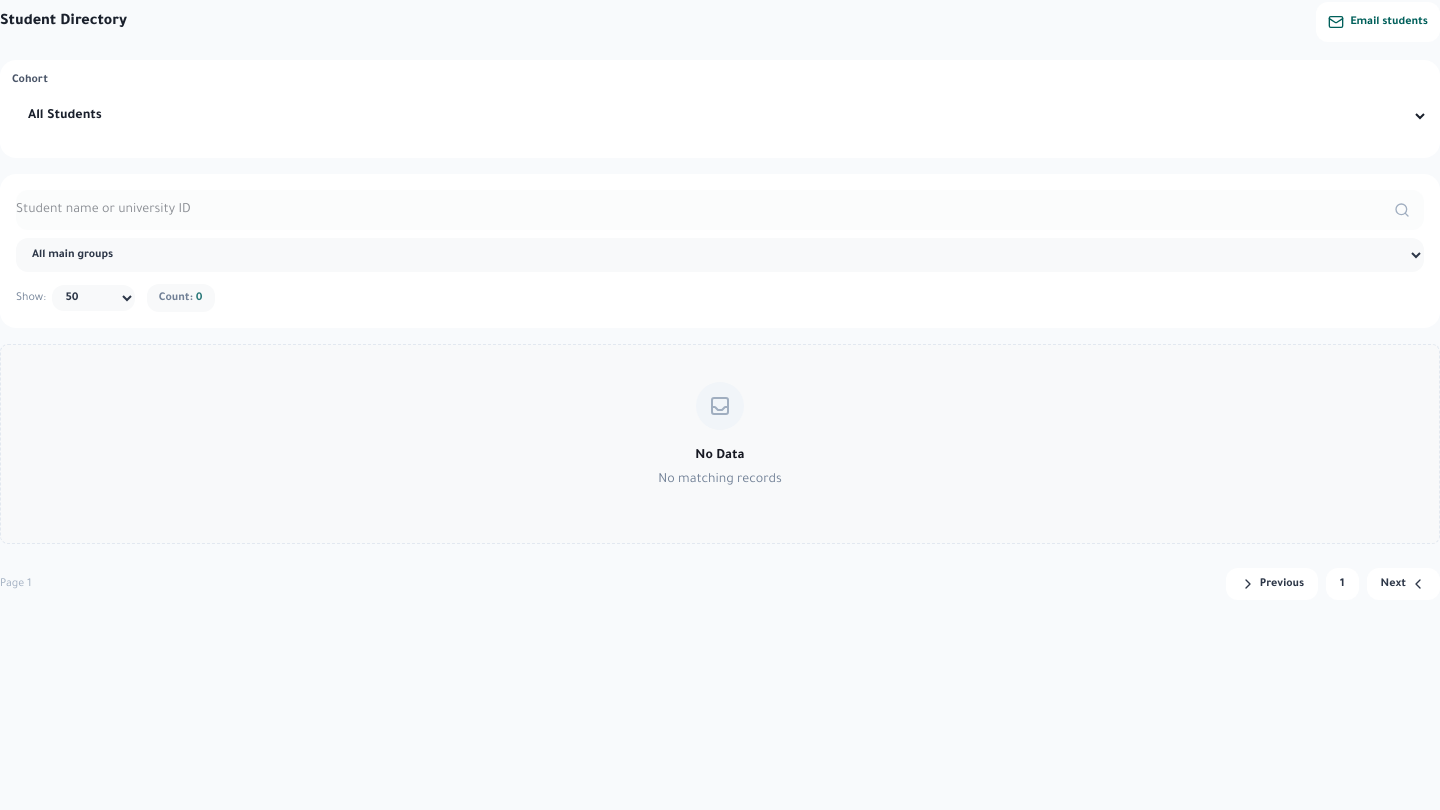
Test: student directory email action › prepares every accessible cohort in one Gmail draft
Click the button "Email students" at (1378, 22), box [1316,2,1439,42]
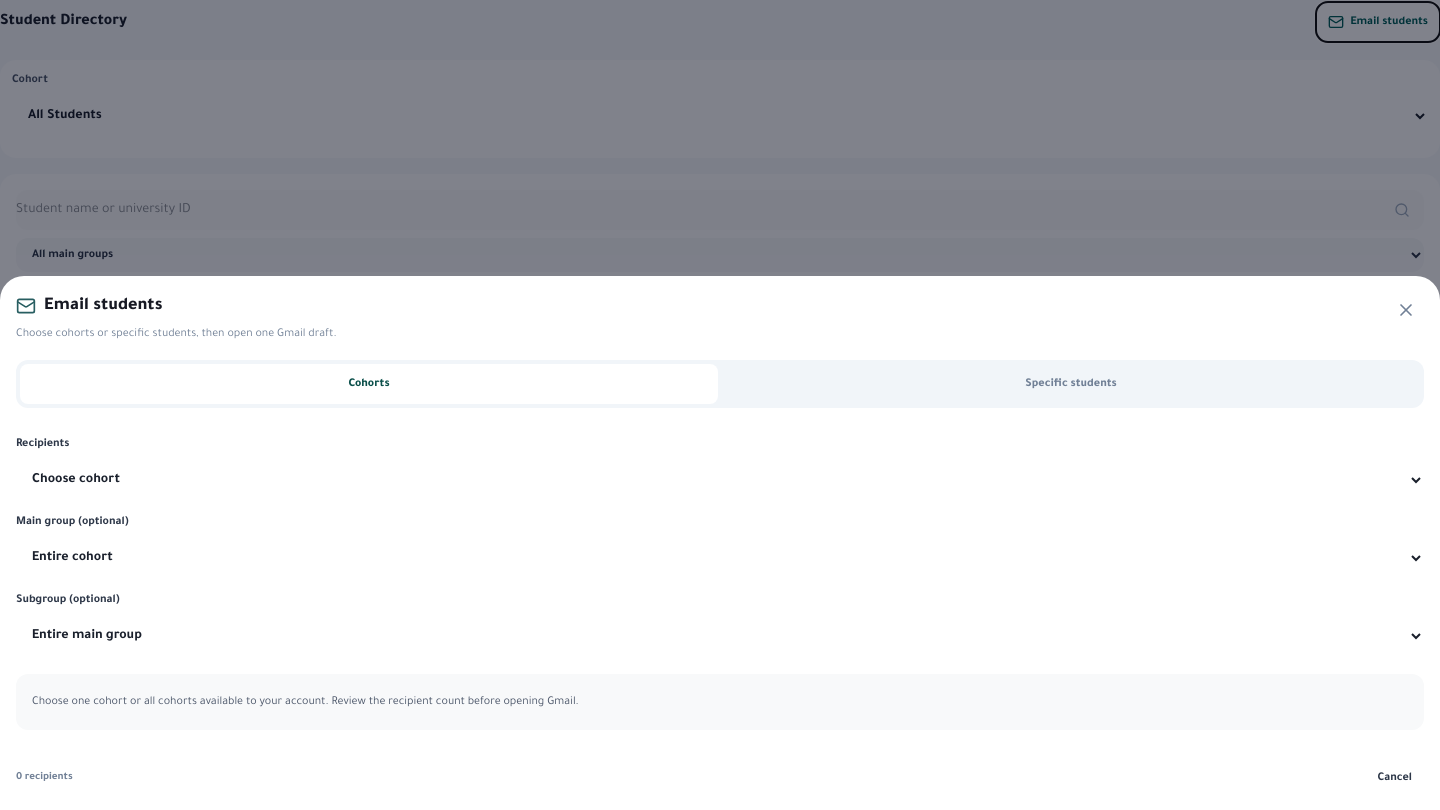
Select "All available cohorts" in the dropdown named "Recipient cohort" at (720, 480), box [16,458,1424,502]
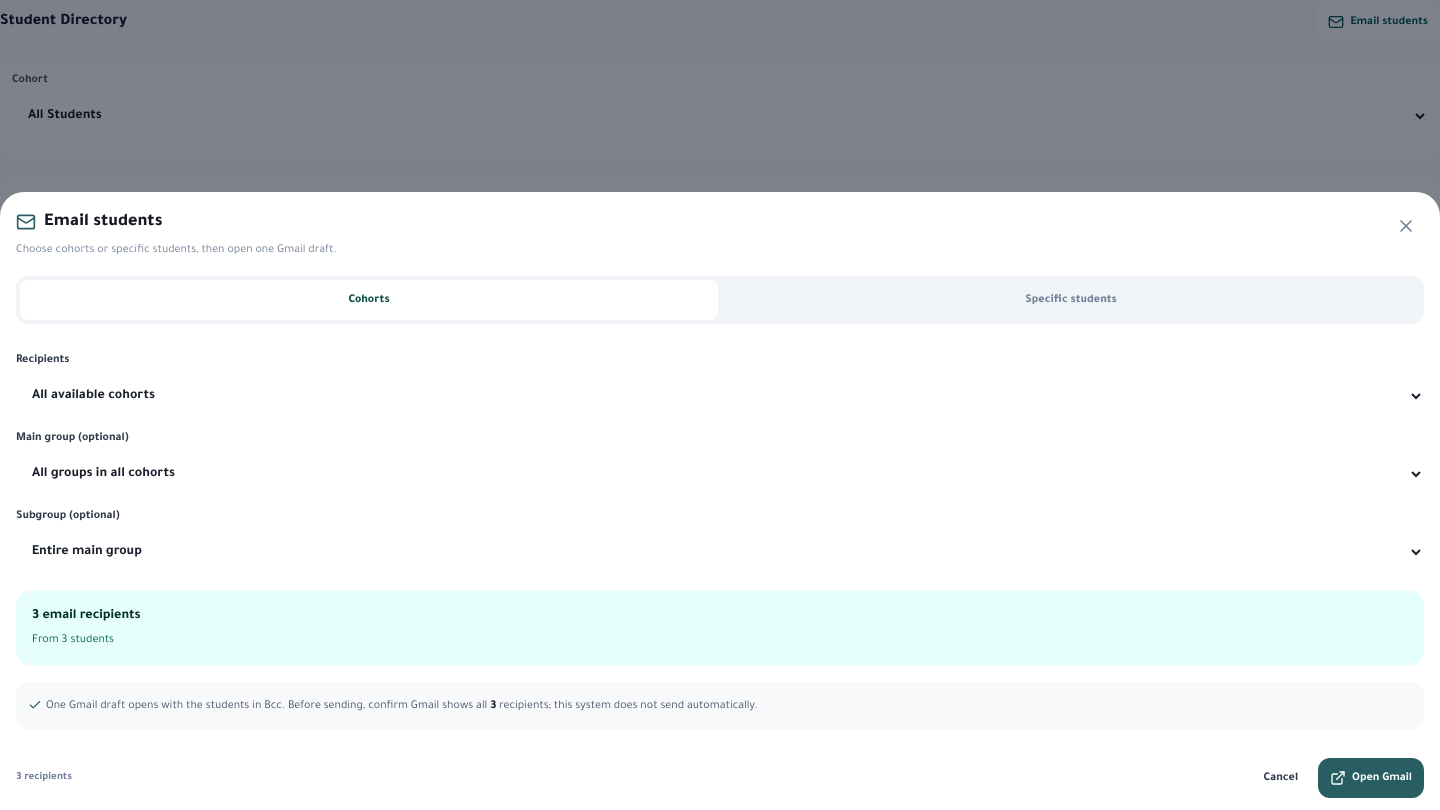
Result: the text "3 email recipients" is shown at [32,609,141,623]
